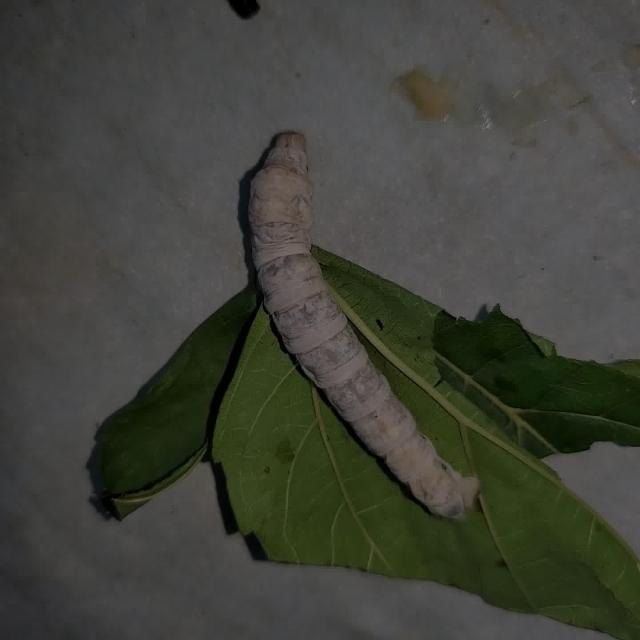Grasserie: (233, 108, 482, 532)
